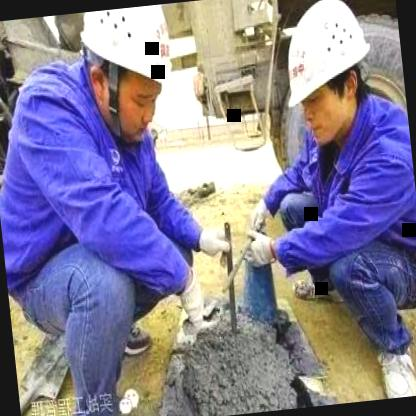helmet: (270, 0, 385, 152), (70, 3, 190, 148)
